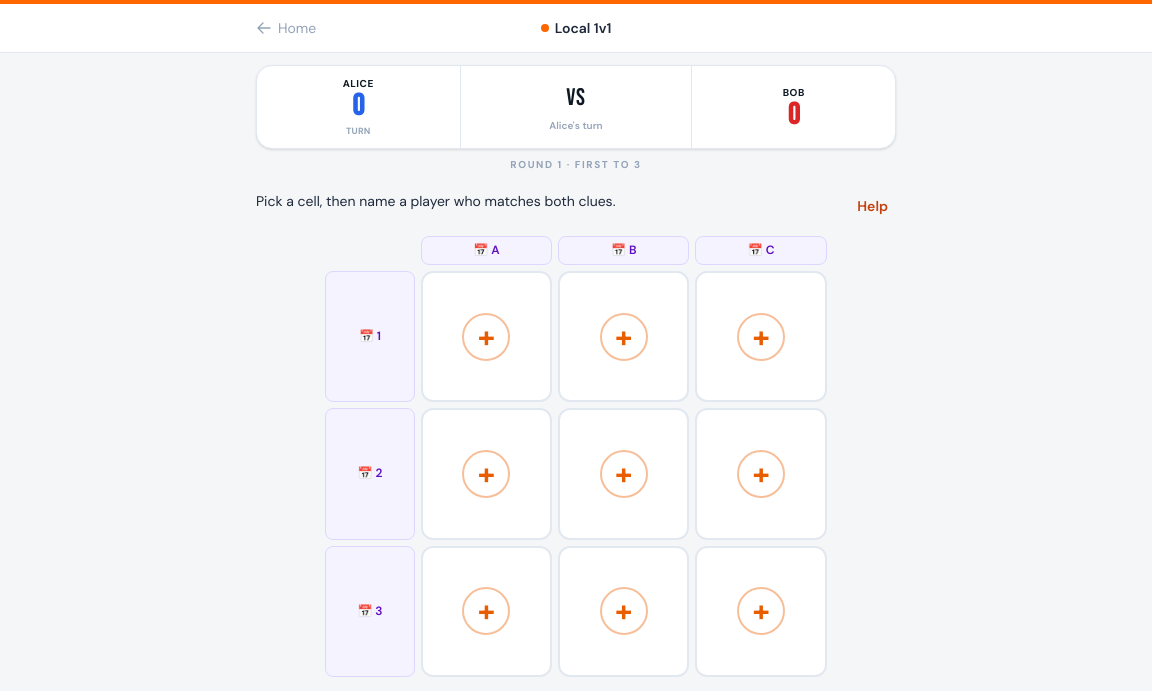
Test: GameBoard keyboard focus restoration with the real PlayerSearch dialog › moves focus to the board region after a correct Local 1v1 claim resolves (game continues)
Click the button named "1 row and A column. Available. Choose a player.": point(486, 337) [421,271,552,402]
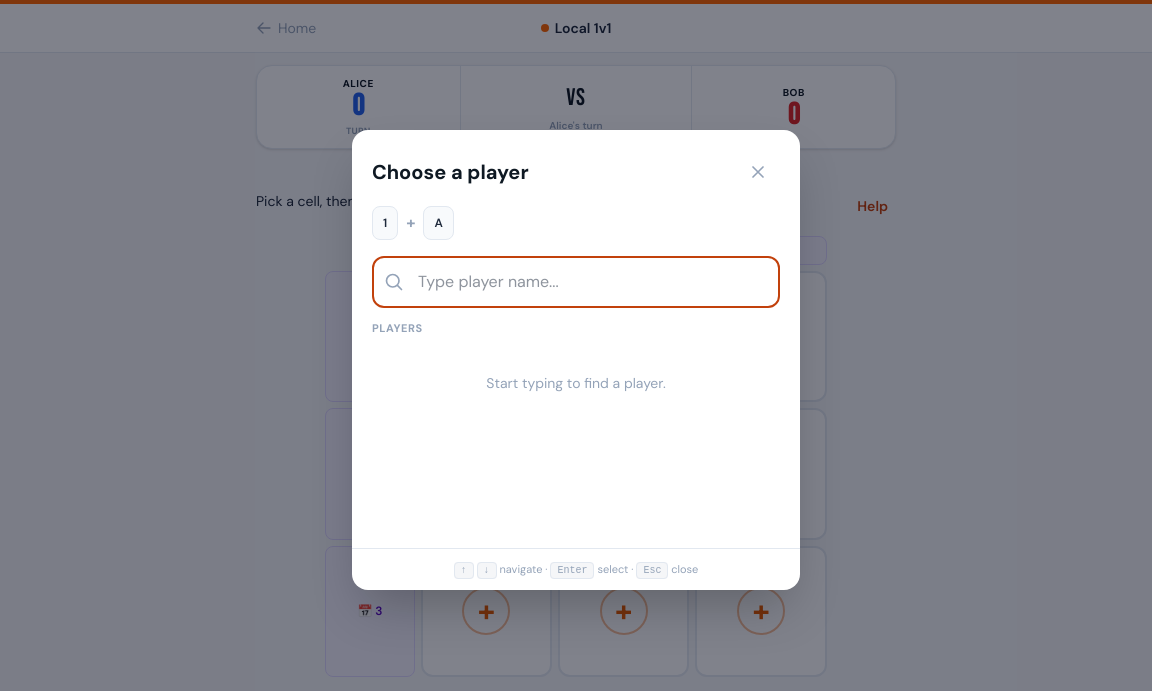
In the dropdown with placeholder "Type player name...": point(576, 282) [372,256,780,308], type "nando"
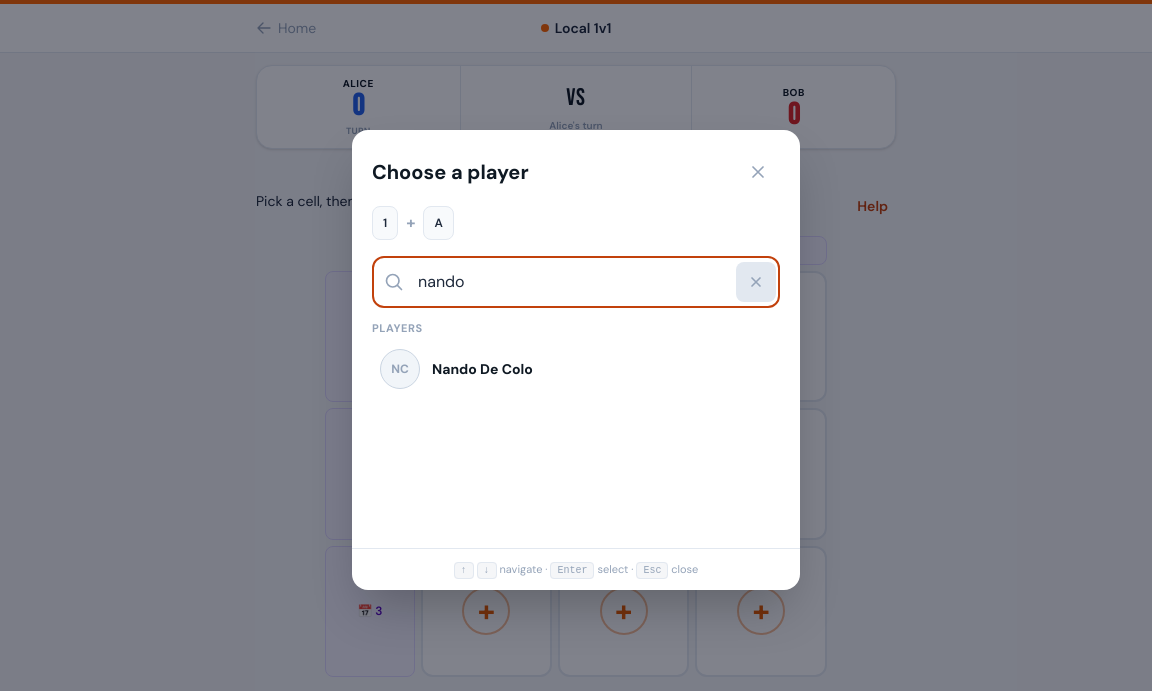
Click the text "Nando De Colo": point(482, 368) [432,358,533,378]
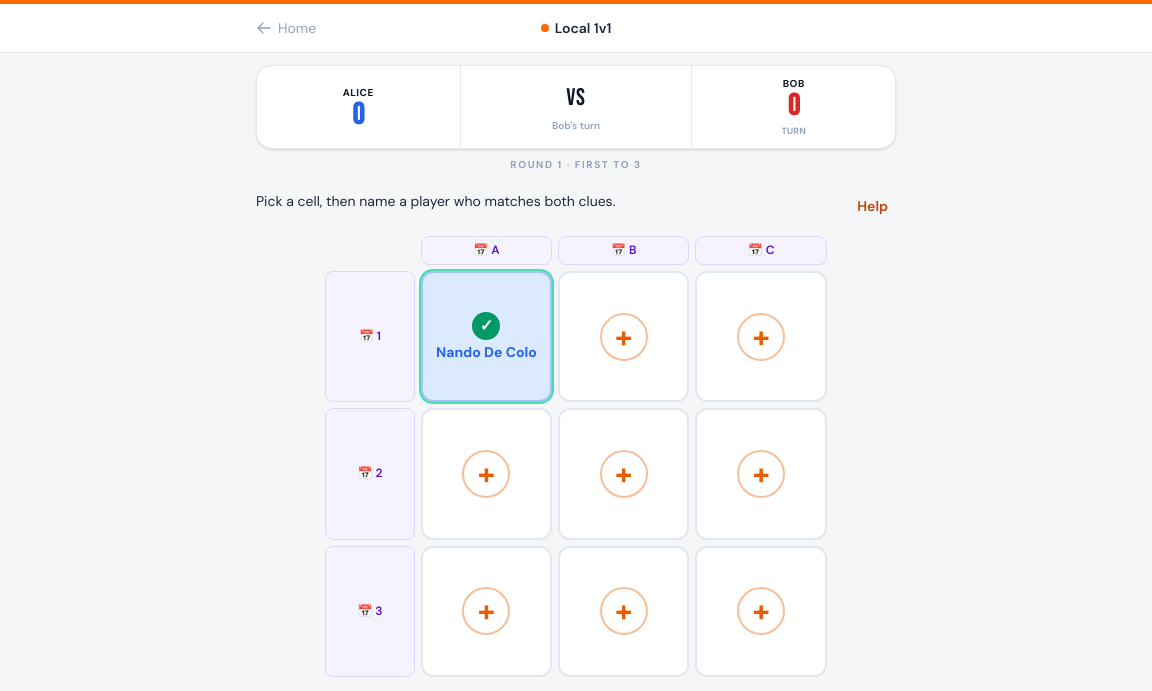
Now the button named "1 row and A column. Available. Choose a player." is disabled, box [421,271,552,402]
